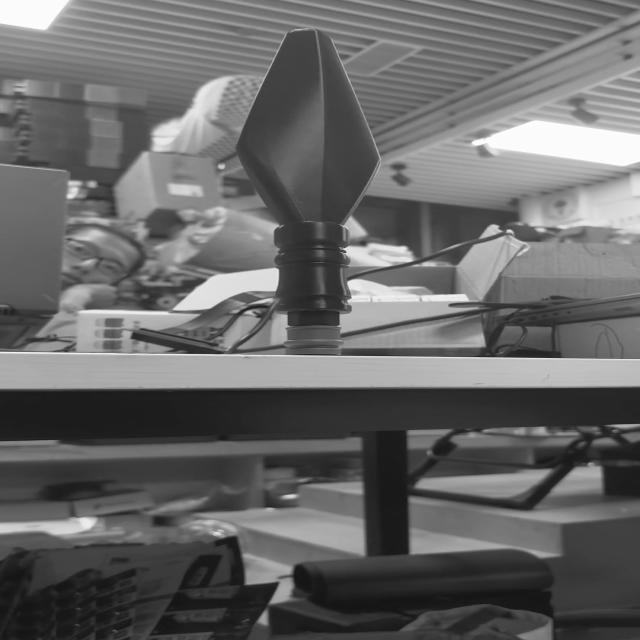base: (288, 322, 347, 354)
